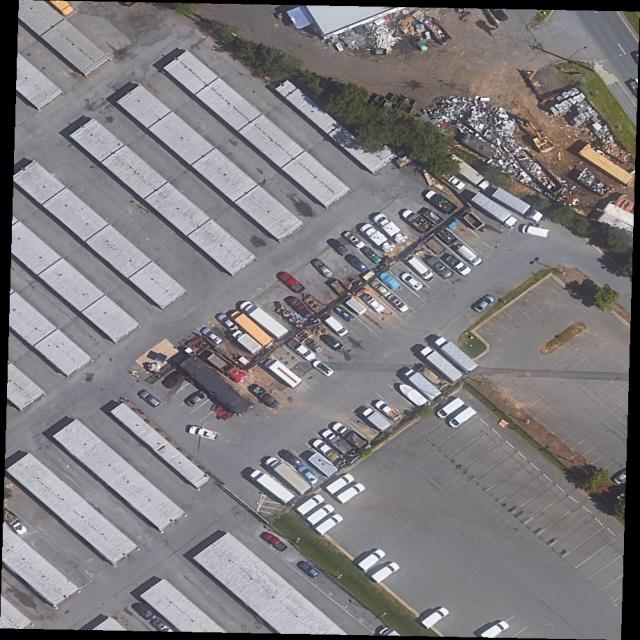large-vehicle: (470, 192, 521, 229), (241, 300, 290, 338), (265, 455, 311, 494), (493, 188, 544, 222), (228, 310, 274, 346), (251, 468, 295, 505), (434, 335, 479, 371), (419, 346, 464, 381), (206, 351, 250, 386), (260, 356, 304, 390), (399, 367, 442, 400), (330, 421, 371, 450), (319, 428, 356, 457), (230, 329, 264, 357), (360, 406, 394, 431)
ship: (393, 379, 431, 409)
small-vehicle: (369, 211, 403, 239), (423, 189, 459, 215), (402, 254, 433, 281), (400, 208, 431, 234), (311, 437, 342, 463), (357, 222, 389, 247), (420, 605, 452, 630), (356, 547, 388, 572), (251, 384, 281, 410), (373, 397, 403, 423), (286, 338, 317, 362), (370, 561, 402, 584), (276, 270, 306, 294), (260, 530, 290, 554), (285, 295, 313, 320), (326, 472, 355, 496), (306, 502, 335, 526), (447, 406, 477, 429), (315, 512, 345, 535), (434, 397, 465, 419), (186, 423, 221, 442), (296, 493, 326, 515), (322, 314, 350, 337), (445, 254, 472, 277), (426, 256, 454, 278), (359, 292, 387, 314), (337, 483, 366, 504), (308, 256, 335, 278), (131, 600, 158, 622), (472, 292, 498, 314), (458, 245, 485, 266), (160, 371, 188, 391), (399, 271, 424, 293), (377, 270, 403, 291), (321, 333, 348, 353), (297, 464, 321, 486), (521, 223, 552, 240), (387, 293, 412, 314), (367, 278, 392, 299), (214, 311, 239, 332), (343, 253, 369, 273), (440, 170, 466, 190), (137, 388, 163, 408), (297, 559, 322, 579), (332, 304, 357, 324), (311, 359, 336, 378), (277, 448, 302, 467), (342, 231, 366, 250), (200, 327, 223, 346), (360, 247, 384, 265), (186, 390, 208, 408), (328, 239, 350, 256)
